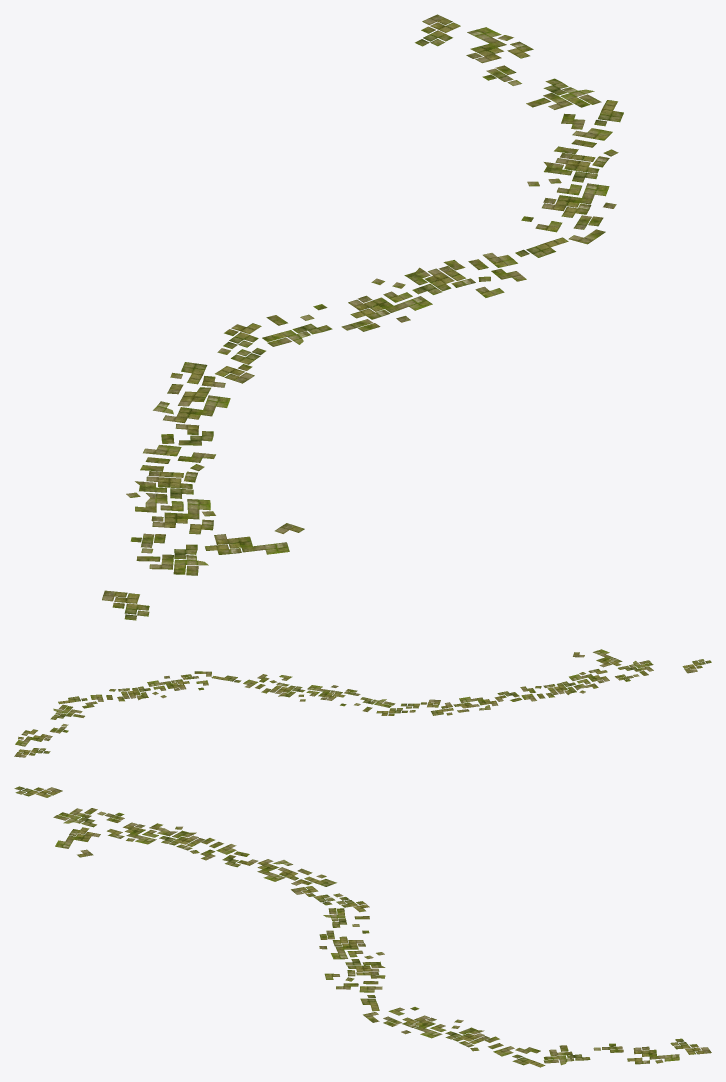
The model's file is mesh_jungle_ruin_road.FBX.
3 renders of one model, top to bottom at view 1: azimuth 30°, elevation 25°; view 2: azimuth 150°, elevation 25°; view 3: azimuth 270°, elevation 25°, orthographic. The views are drawn at different scales.
Parts seen in each view (by area): view 1: mesh_jungle_ruin_road; view 2: mesh_jungle_ruin_road; view 3: mesh_jungle_ruin_road.
Part boxes in pixels (x1,y1,x2,y2): mesh_jungle_ruin_road: (102, 14, 623, 620); mesh_jungle_ruin_road: (14, 649, 711, 757); mesh_jungle_ruin_road: (14, 786, 711, 1067).
Bounding box in the file's own units: 112 × 4.9e-06 × 118.
